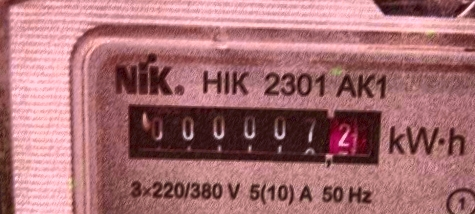0: (208, 113, 227, 141), (178, 113, 196, 142), (147, 114, 165, 142), (270, 113, 287, 141), (240, 112, 256, 140)
2: (335, 120, 352, 149)
7: (300, 115, 317, 145)
screen: (117, 91, 393, 175)
